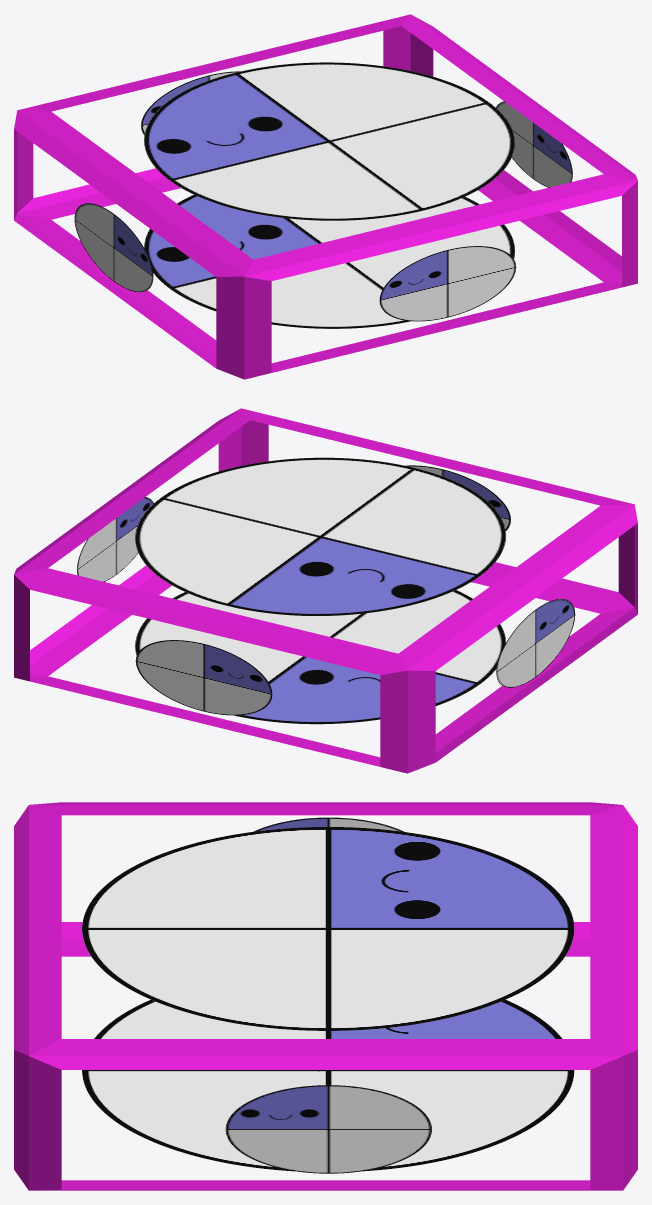
The model's file is Fracciones un cuarto.fbx.
The picture shows the model from 3 angles, top to bottom: view 1: azimuth 30°, elevation 25°; view 2: azimuth 150°, elevation 25°; view 3: azimuth 270°, elevation 25°; orthographic projection. The views are drawn at different scales.
Visible parts, largest first — view 1: 1/4; view 2: 1/4; view 3: 1/4.
Part boxes in pixels (left/top/right/bottom): 1/4: left=14, top=14, right=637, bottom=379; 1/4: left=14, top=408, right=637, bottom=773; 1/4: left=14, top=802, right=637, bottom=1190.
Size of the model in its own units: 213 by 52.5 by 210.
Materials: 2 (1 with a texture image).
